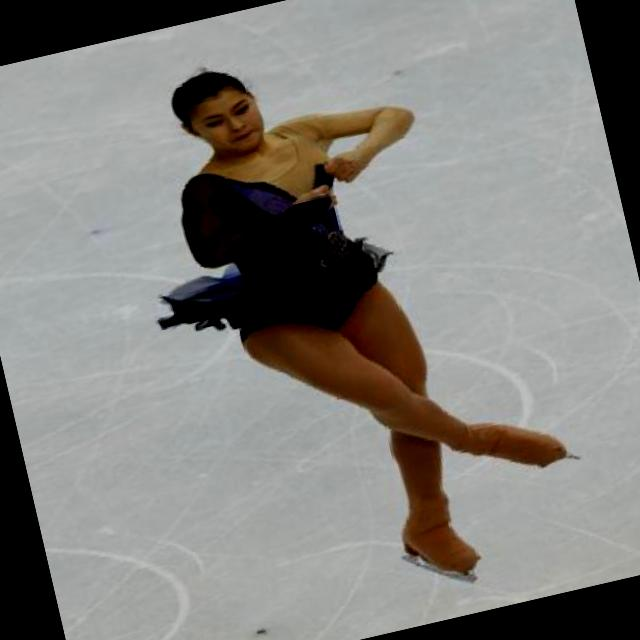Person: (126, 55, 598, 606)
